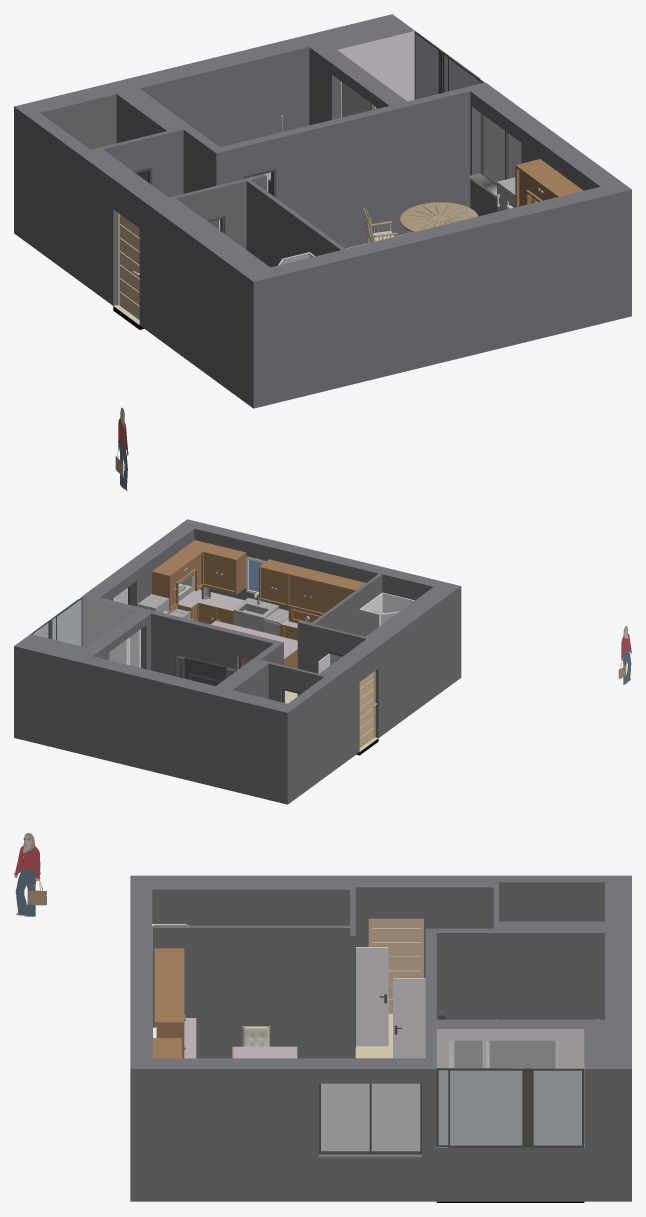
File: dream-apartment.glb
The picture shows the model from 3 angles, top to bottom: view 1: azimuth 30°, elevation 25°; view 2: azimuth 150°, elevation 25°; view 3: azimuth 270°, elevation 25°; orthographic projection. The views are drawn at different scales.
Bounding box in the file's own units: 12.36 × 2.78 × 11.3.
Materials: 2 (2 with a texture image).
